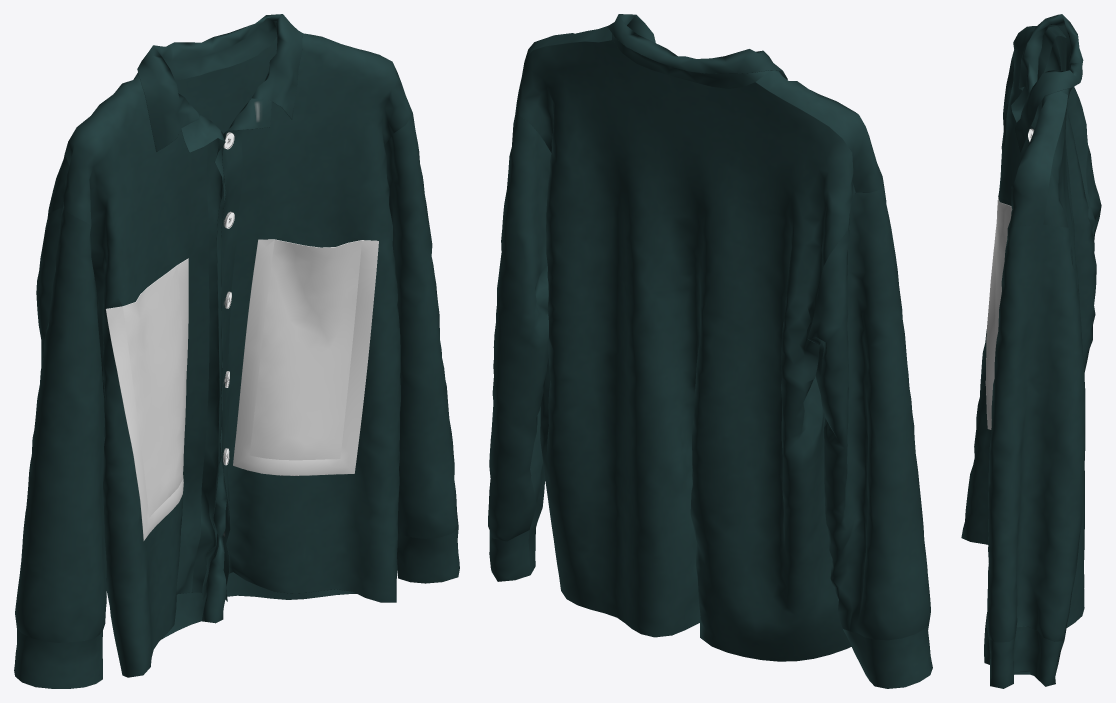
File: FLG_11_05_4.fbx
The picture shows the model from 3 angles, left to right: view 1: azimuth 30°, elevation 25°; view 2: azimuth 150°, elevation 25°; view 3: azimuth 270°, elevation 25°; orthographic projection. The views are drawn at different scales.
Visible parts, largest first — view 1: FLG_11_05_4; view 2: FLG_11_05_4; view 3: FLG_11_05_4.
Part boxes in pixels (<box>): FLG_11_05_4: <box>14,14,459,688</box>; FLG_11_05_4: <box>488,14,932,688</box>; FLG_11_05_4: <box>961,14,1101,688</box>.
Size of the model in its own units: 57.98 by 76.88 by 17.09.
